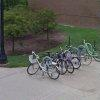Bicycle: (25, 38, 96, 83)
